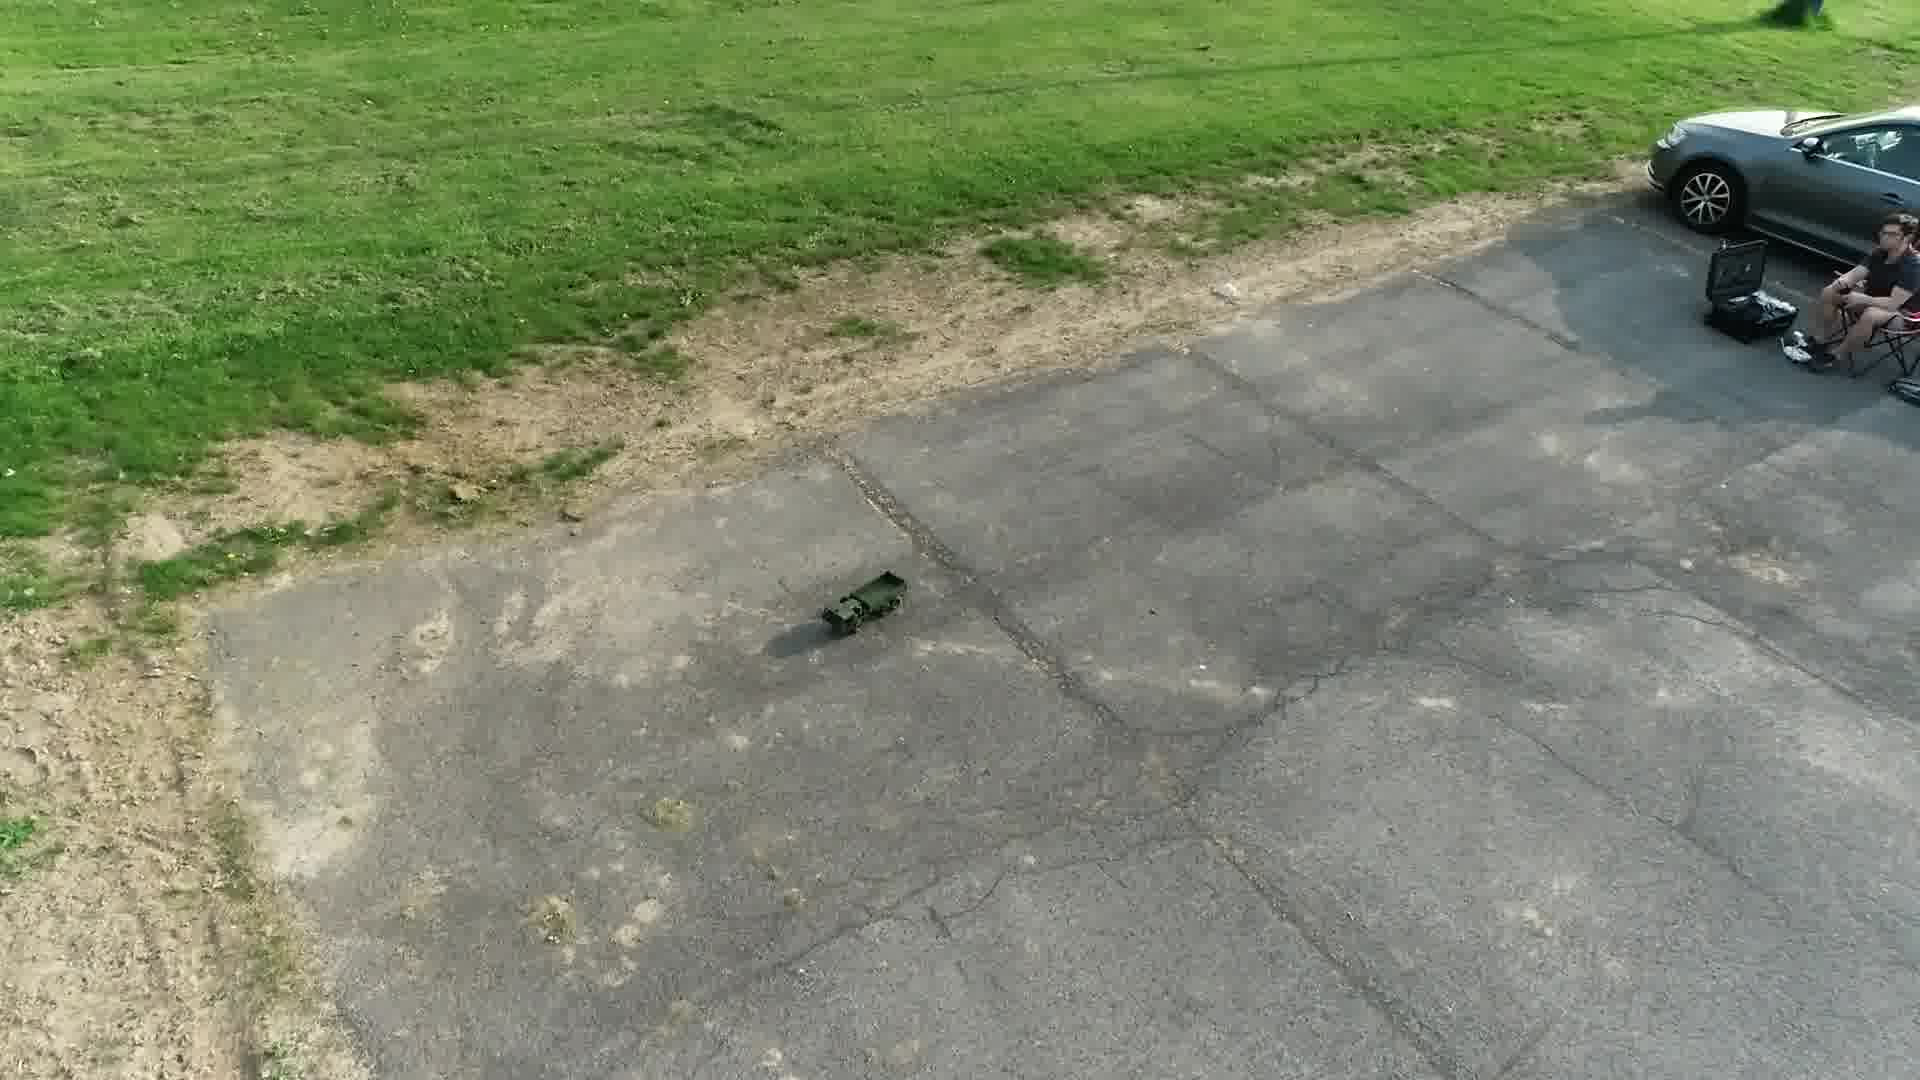transporter9: (819, 563, 913, 638)
